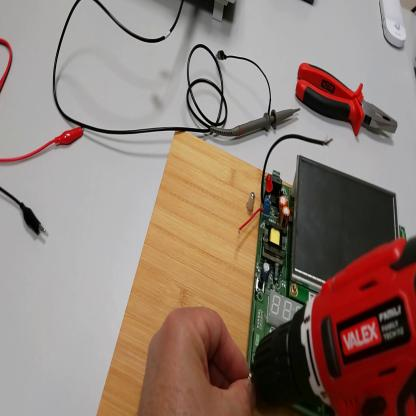electric screwdriver: (250, 233, 416, 416)
hand: (136, 304, 256, 415)
low voltage board: (238, 133, 407, 416)
oscilloscope: (209, 1, 238, 23)
oscilloscope probe tip: (221, 106, 304, 135)
pliers: (297, 62, 400, 139)
working area: (97, 133, 292, 416)
